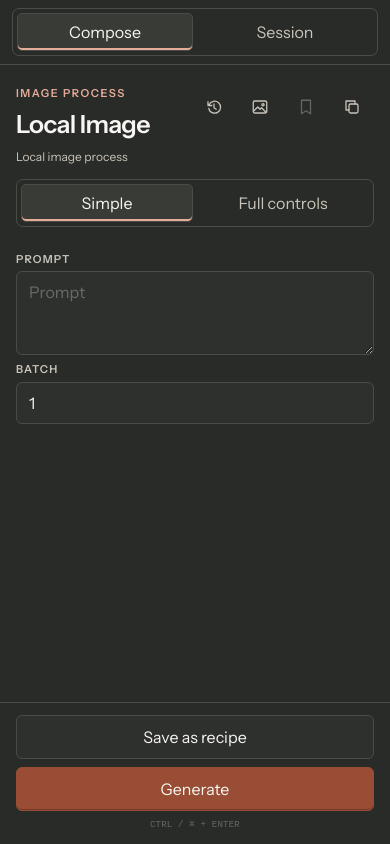
Scenario: GeneratorView workstation › starts in Compose and switches to Session after keyboard submission
In the text box labelled "Prompt": (195, 313) [16, 271, 374, 355], type "A careful studio portrait"
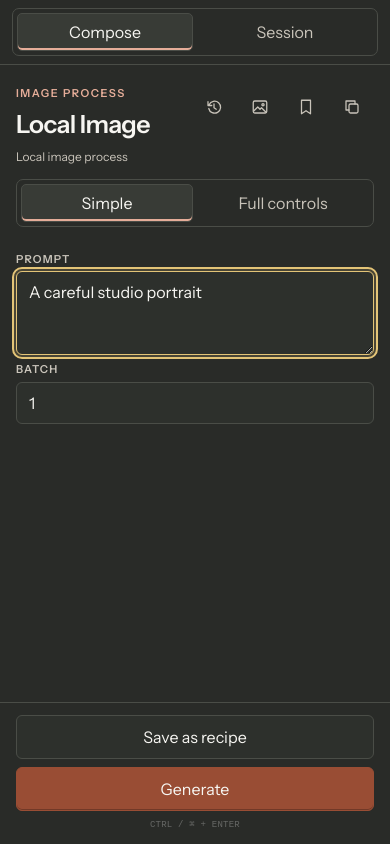
Type keys "{Control>}{Enter}{/Control}"
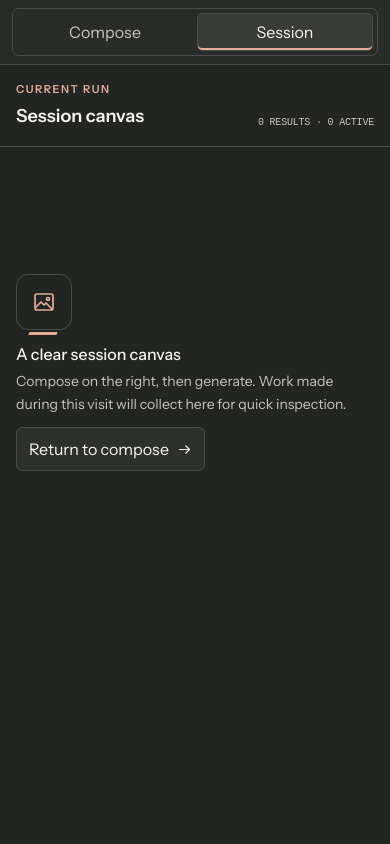
Expected: the text "A clear session canvas" is shown, [16, 344, 181, 364]
